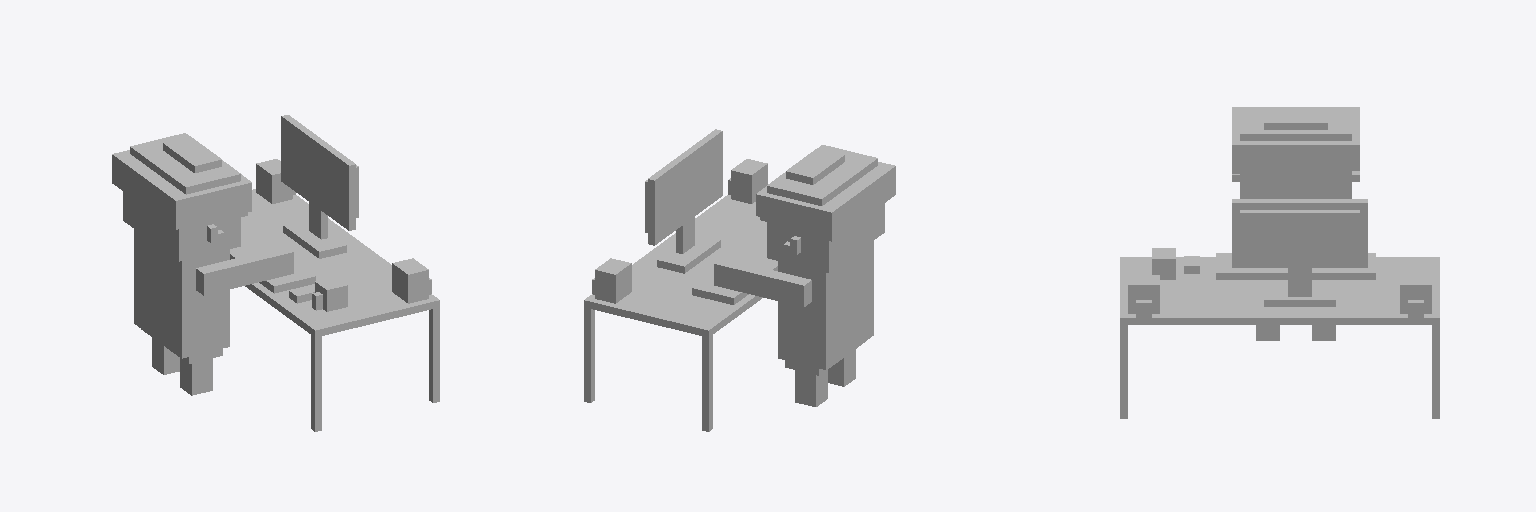
Rendered from voxelMe.obj.
3 views of the same model, side by side, from view 1: azimuth 30°, elevation 25°; view 2: azimuth 150°, elevation 25°; view 3: azimuth 270°, elevation 25° (orthographic).
Parts seen in each view (by area): view 1: Untitled.001; view 2: Untitled.001; view 3: Untitled.001.
Part boxes in pixels (bbox=[...]): Untitled.001: bbox=[112, 115, 439, 431]; Untitled.001: bbox=[584, 129, 895, 431]; Untitled.001: bbox=[1120, 107, 1439, 418].
Bounding box in the file's own units: 3 × 3.1 × 4.